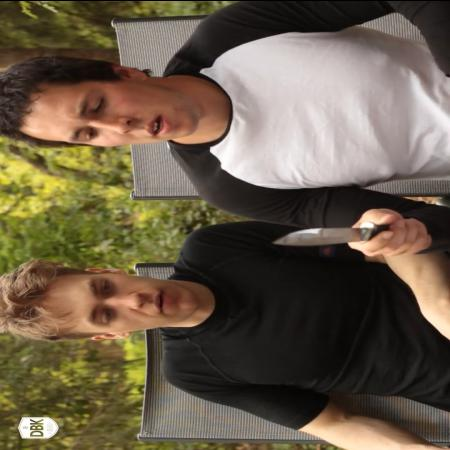long weapon: (262, 208, 402, 252)
